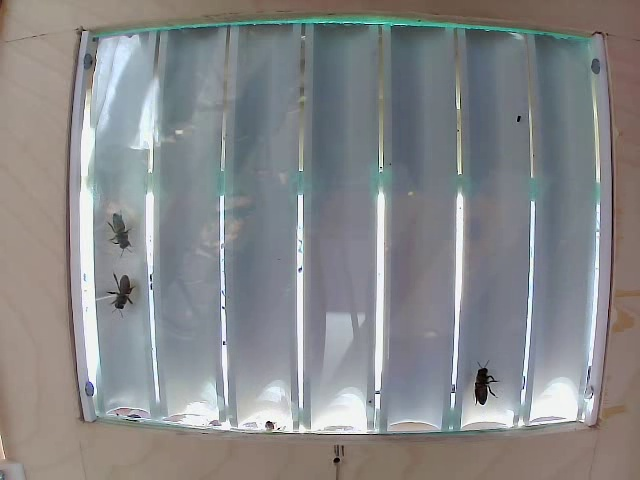bee: (103, 203, 147, 262), (108, 276, 153, 323), (465, 362, 501, 414)
